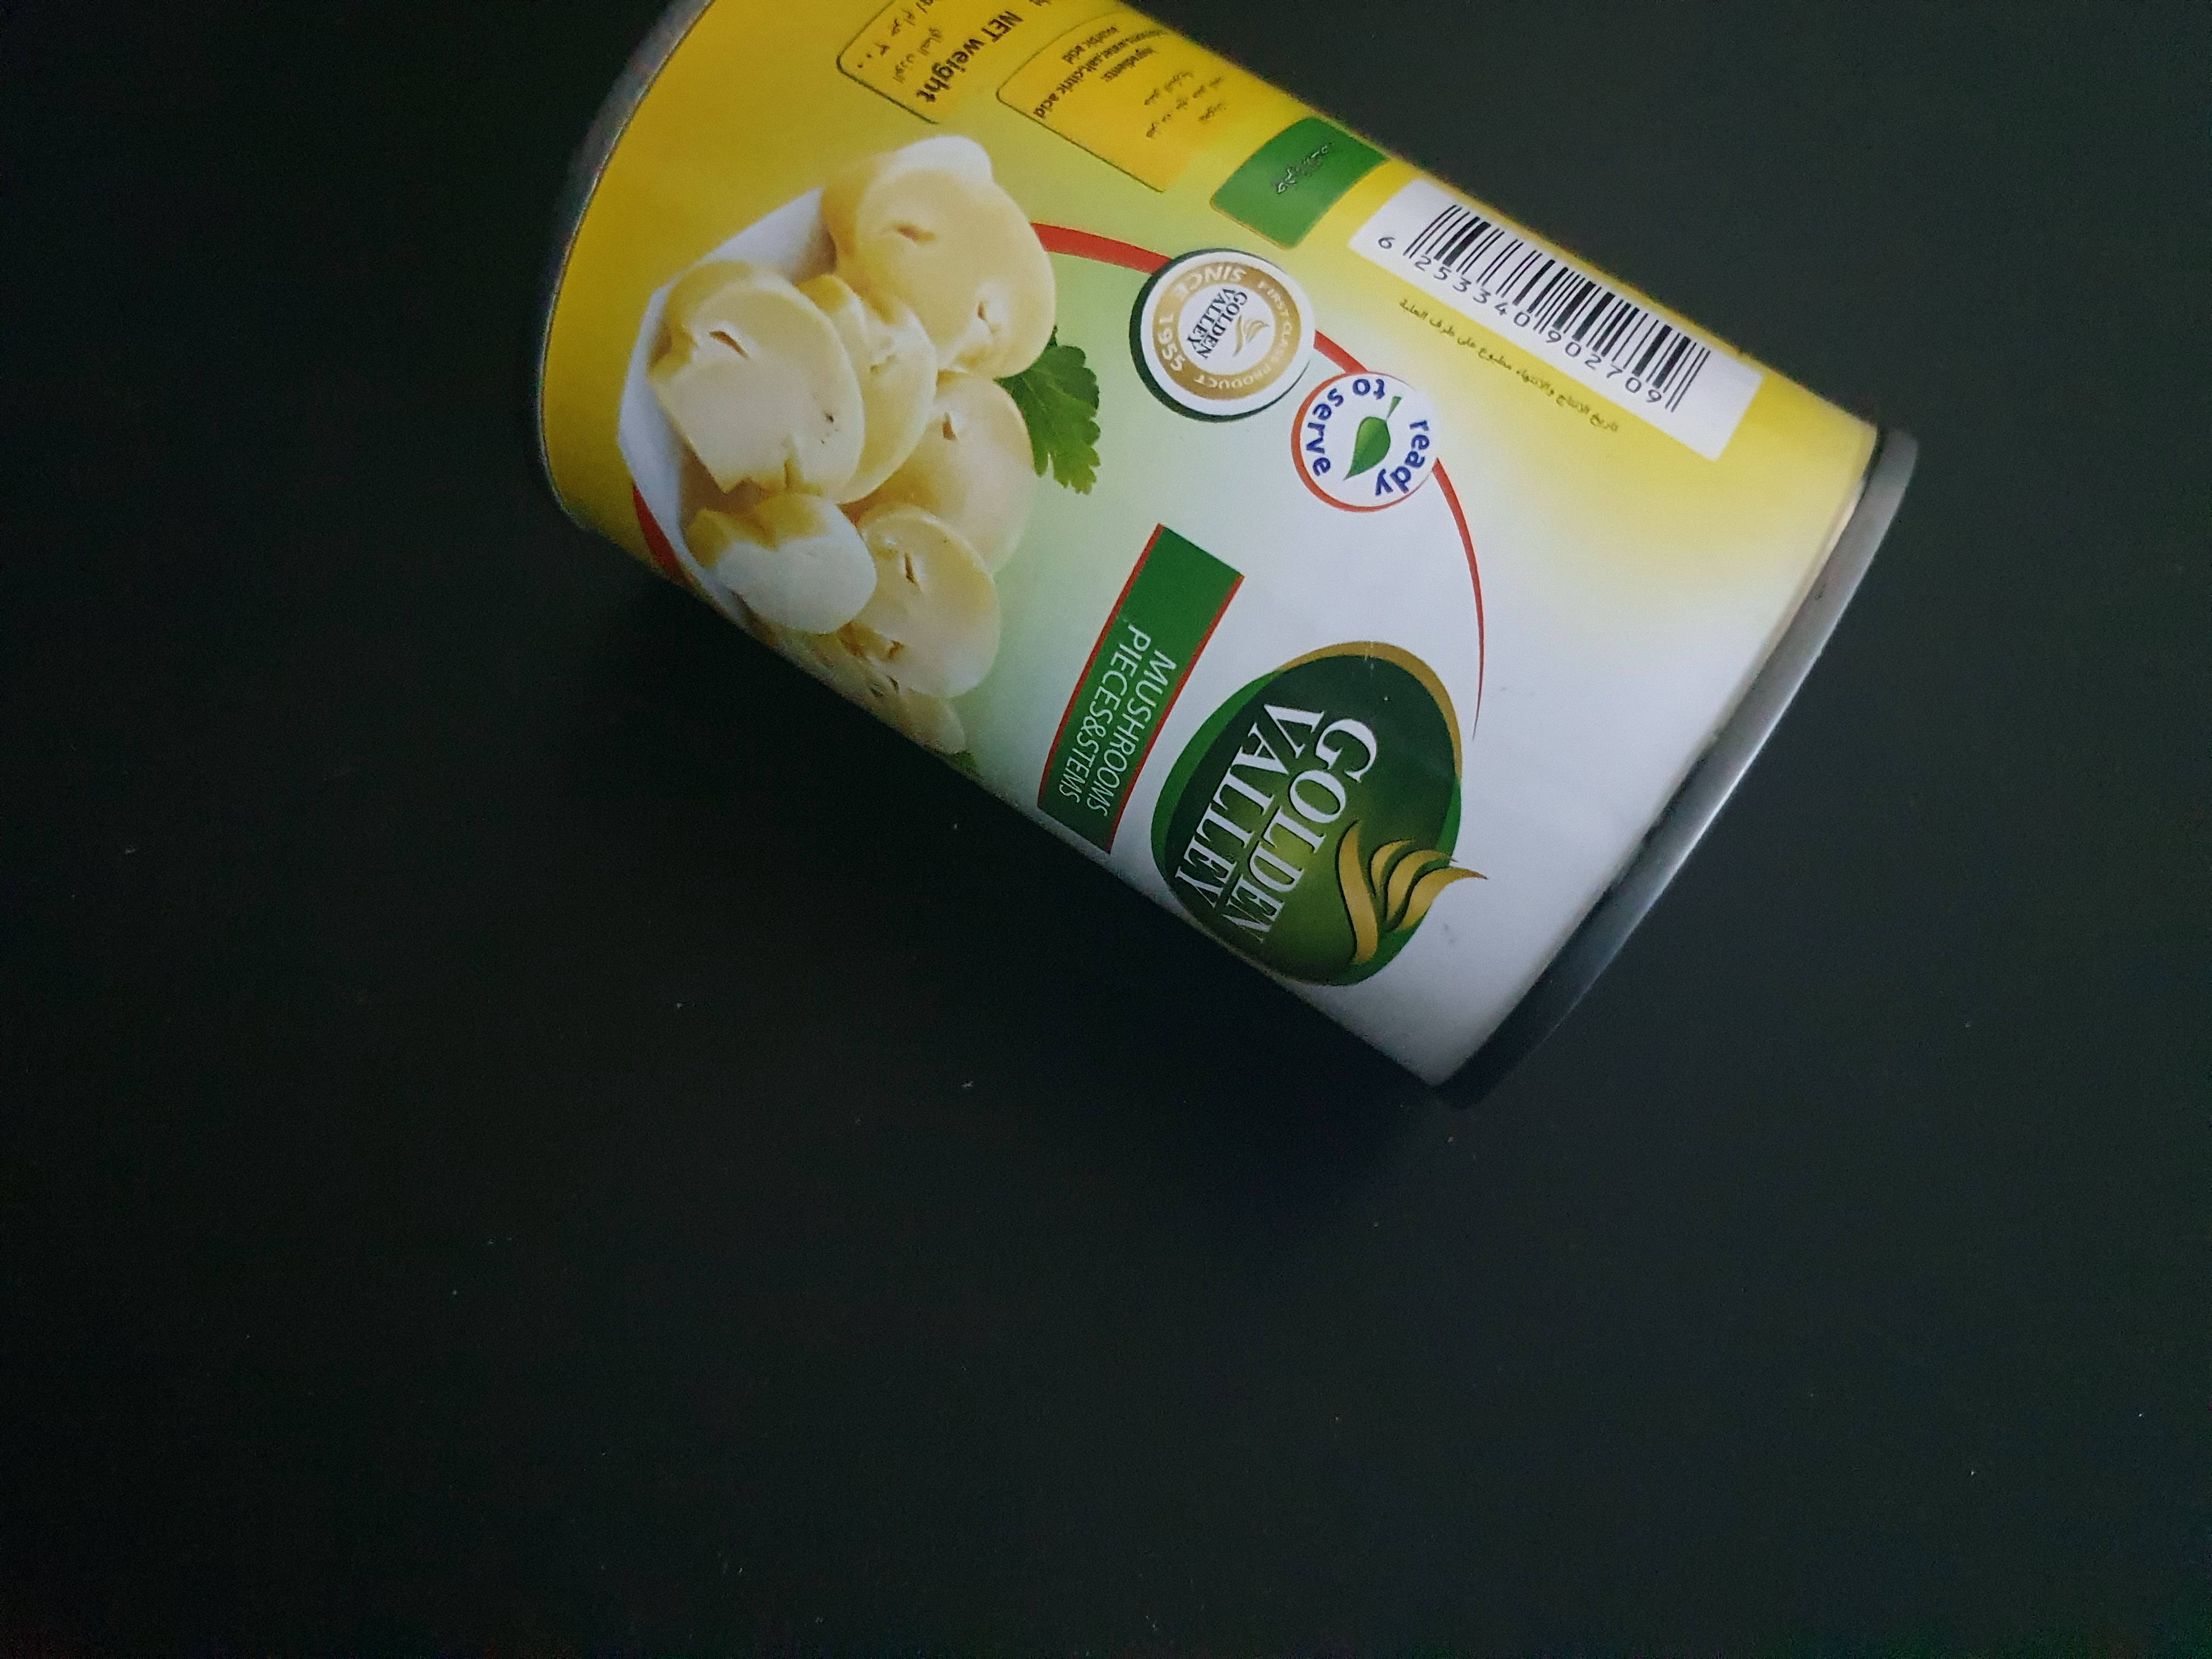metal: (510, 0, 1947, 1195)
